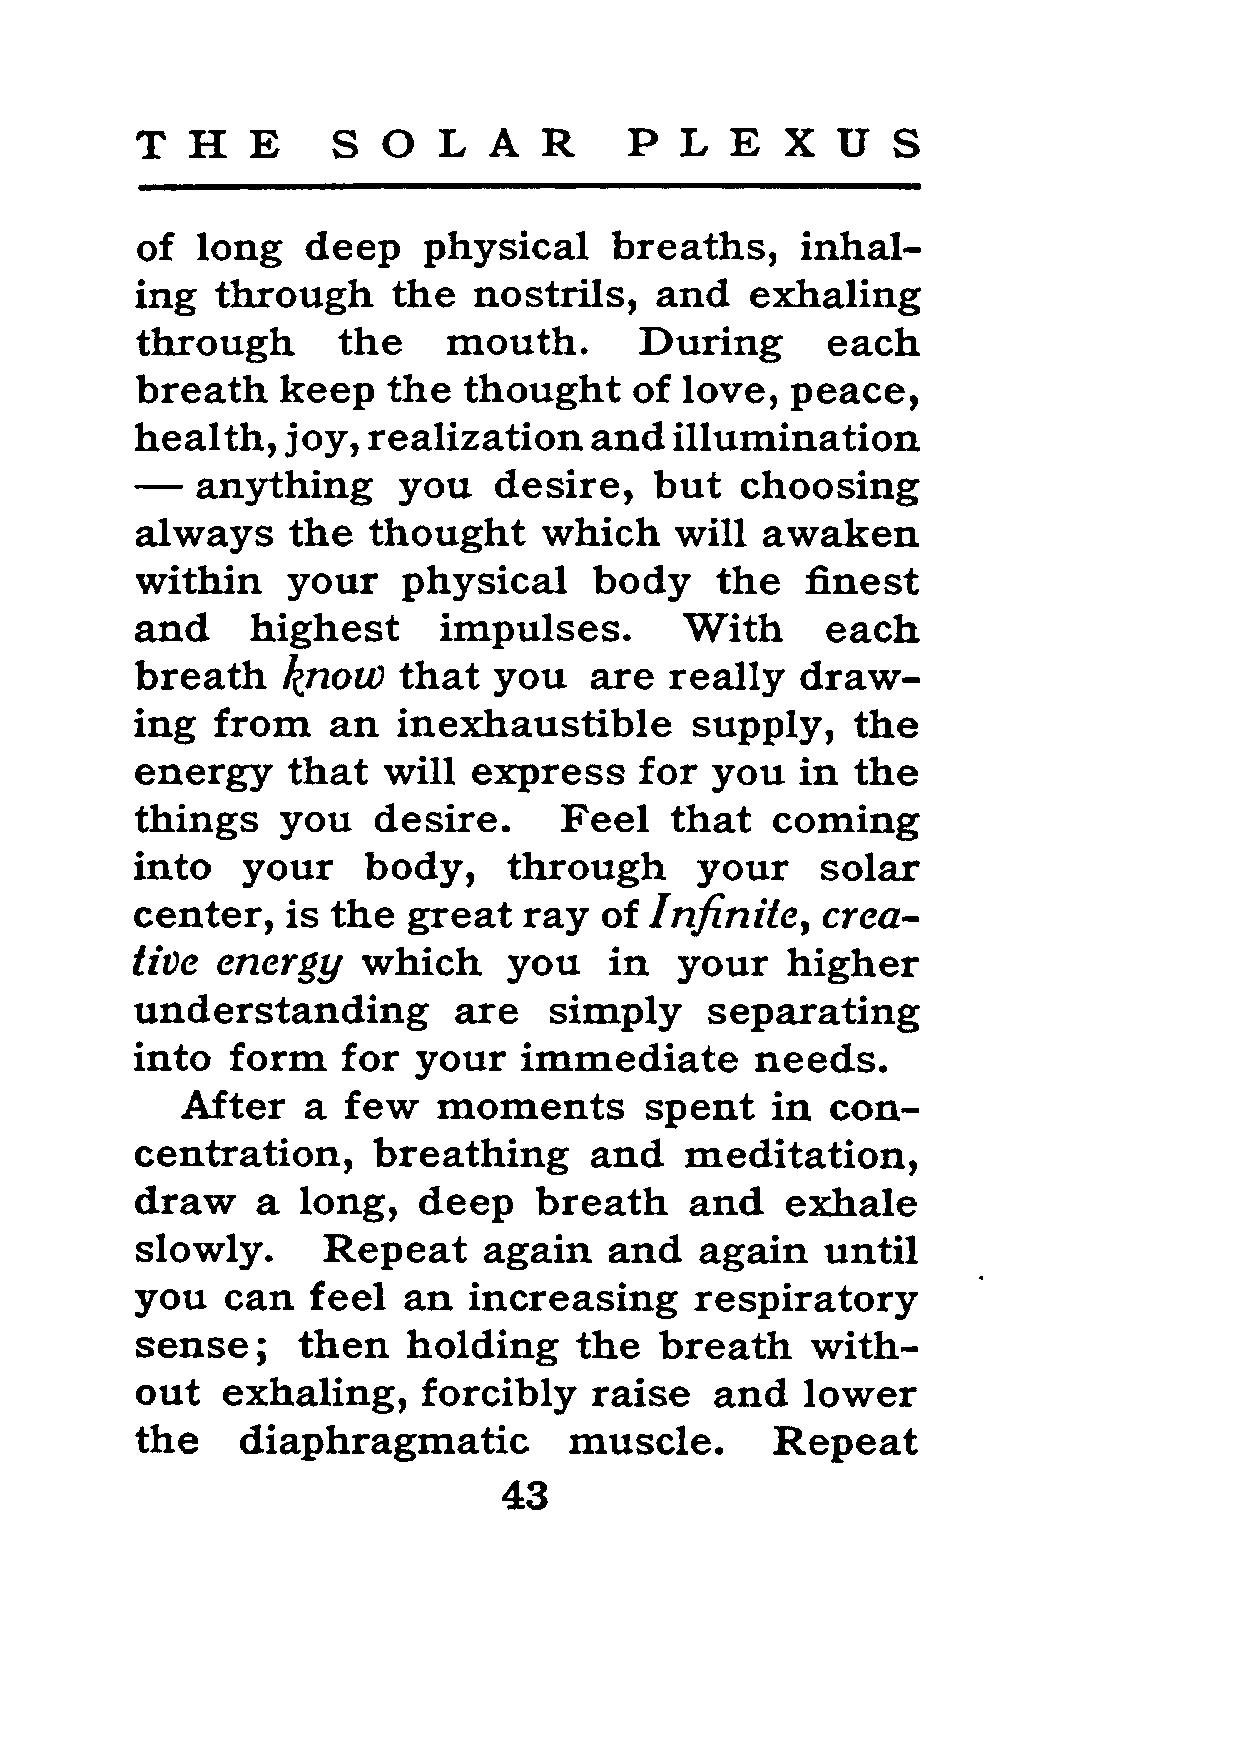chapter: (132, 123, 921, 162)
content: (132, 221, 927, 1469)
content_pagenumber: (499, 1478, 552, 1519)
